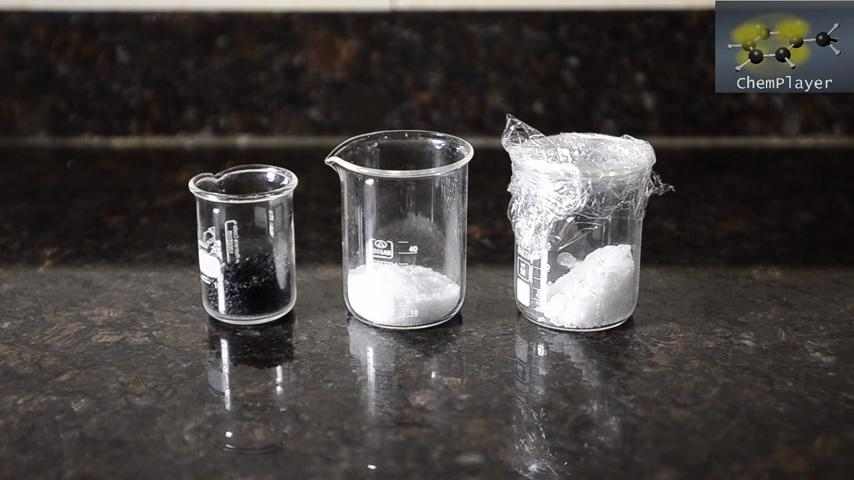Beaker: (491, 111, 656, 332), (321, 129, 472, 328), (186, 151, 298, 328)
